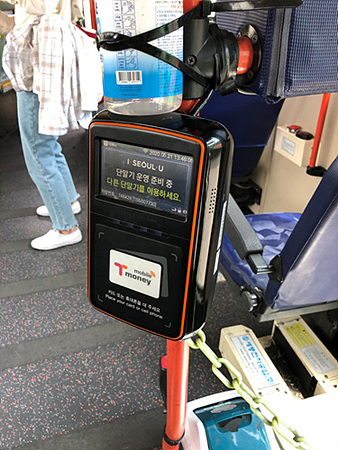terminal: (88, 112, 216, 336)
